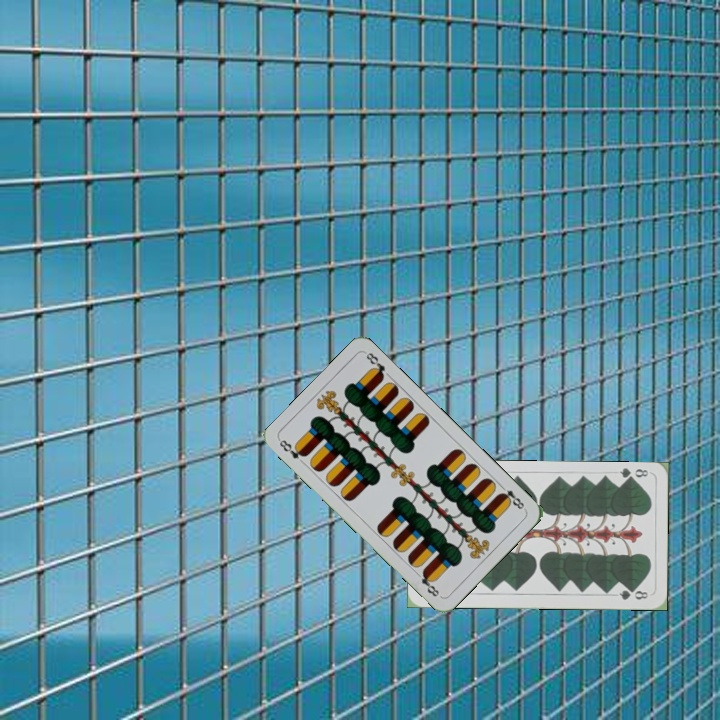E8: (275, 436, 309, 468), (495, 480, 528, 512)
G8: (616, 465, 650, 484)
